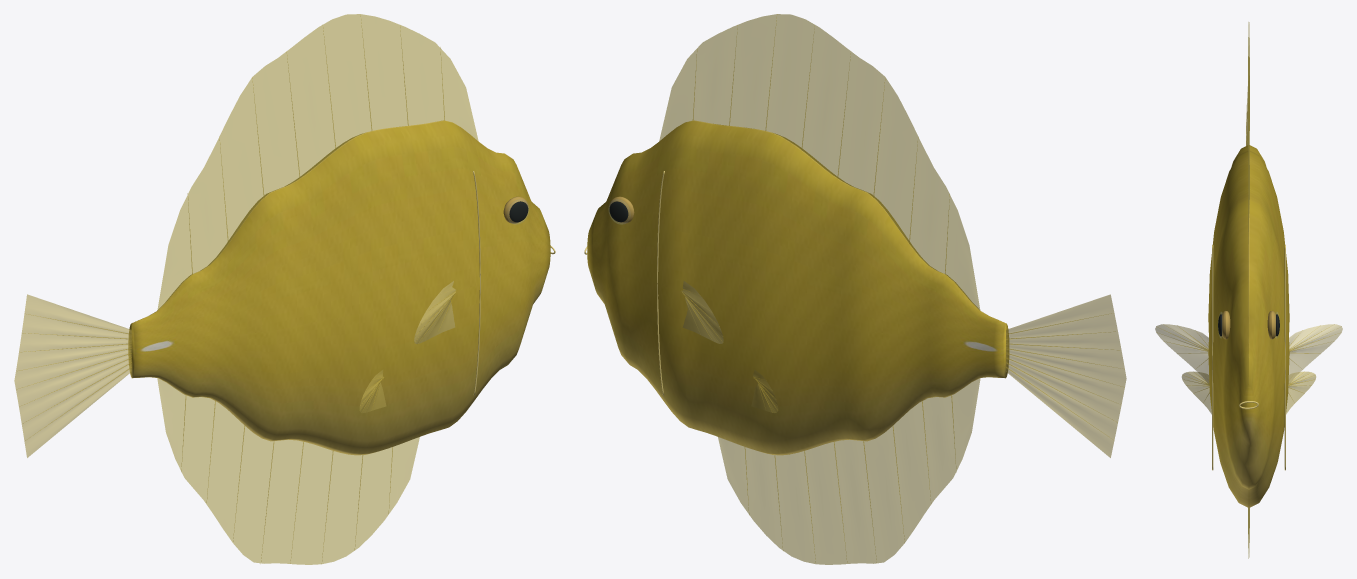
Rendered from yellowtang-mobile.glb.
3 renders of one model, left to right at view 1: azimuth 30°, elevation 25°; view 2: azimuth 150°, elevation 25°; view 3: azimuth 270°, elevation 25°, orthographic.
Visible parts, largest first — view 1: skin, dorsal, anal, tail, dorsal-ray, pectoral-left, pelvic-left; view 2: skin, dorsal, anal, tail, dorsal-ray, pectoral-left, pelvic-left; view 3: skin, pectoral-left, pelvic-left, operculum, dorsal-ray, eye-iris--1, dorsal.
Part boxes in pixels (box(x1,y1,x2,y2)): skin: box(128, 120, 550, 455); dorsal: box(157, 14, 478, 310); anal: box(157, 378, 419, 564); tail: box(14, 294, 131, 457); dorsal-ray: box(20, 15, 456, 563); pectoral-left: box(414, 281, 455, 343); pelvic-left: box(359, 370, 386, 412); skin: box(587, 120, 1008, 455); dorsal: box(659, 14, 980, 310); anal: box(718, 378, 980, 564); tail: box(1006, 294, 1126, 457); dorsal-ray: box(681, 14, 1106, 562); pectoral-left: box(681, 281, 723, 343); pelvic-left: box(751, 370, 778, 412); skin: box(1208, 145, 1289, 507); pectoral-left: box(1155, 324, 1342, 385); pelvic-left: box(1182, 371, 1315, 414); operculum: box(1212, 245, 1285, 470); dorsal-ray: box(1156, 105, 1341, 399); eye-iris--1: box(1222, 311, 1275, 339); dorsal: box(1248, 22, 1249, 243).
Bounding box in the file's own units: 0.5972 × 0.577 × 0.1805.
11 materials, 1 textured.
